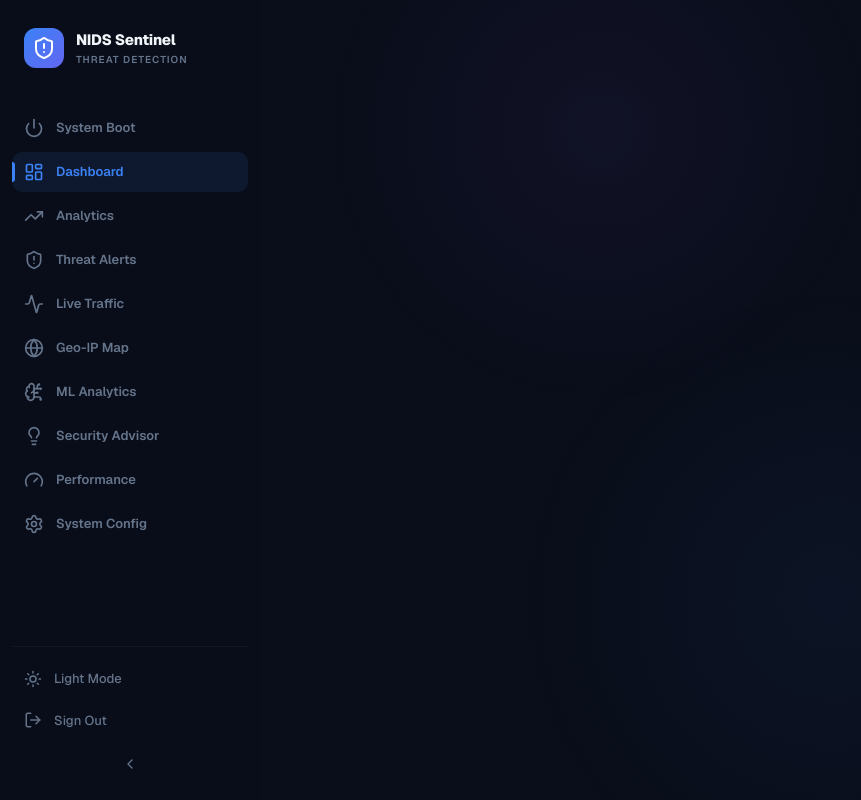
Test: Sidebar Component › toggles sidebar on collapse button click
What coordinates should you click on to do the following:
click the button with class "sidebar__collapse-btn"
I would click on:
 (130, 764)
Its box is 12,748 -> 248,780.
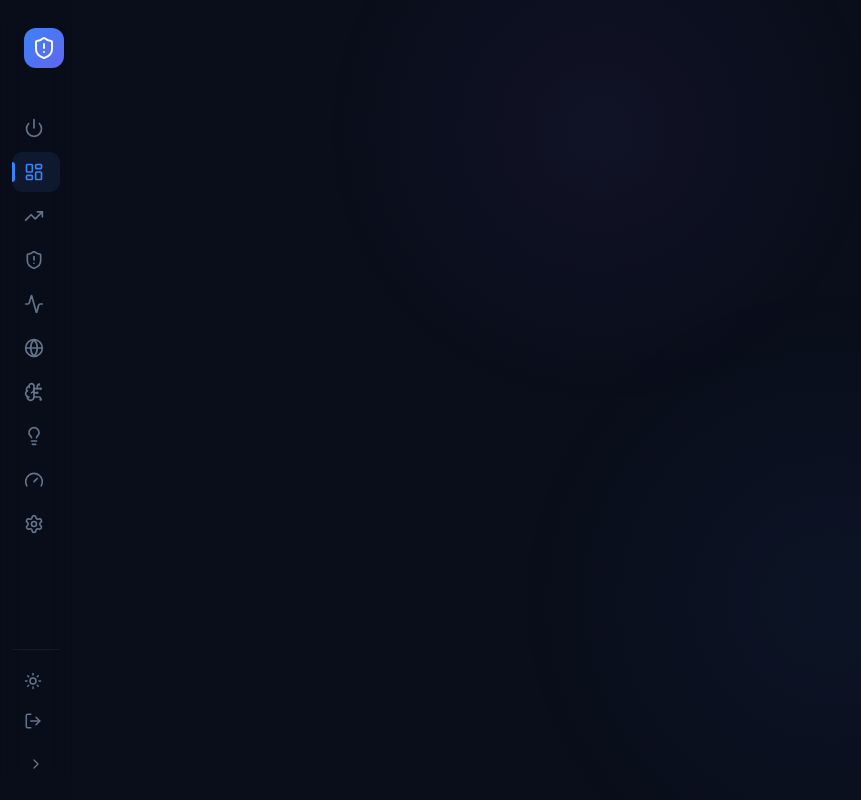
expect the element with class "sidebar--collapsed" is shown: met, box 0,0 -> 72,799
